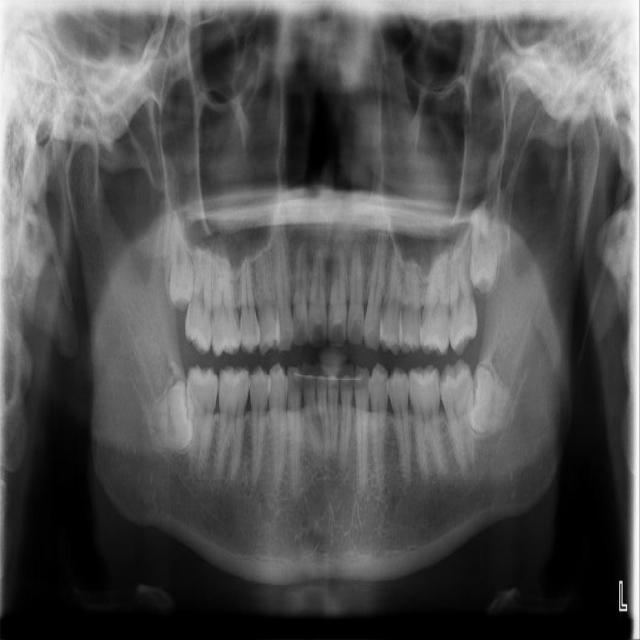3M ESPE Implant: (168, 211, 196, 312)
73: (582, 568, 590, 572)
BioHorizons Implant: (449, 235, 478, 355)
BioLife Implant: (469, 203, 497, 293)
Biomet 3i Implant: (463, 356, 518, 436)
Blue Sky Bio Implant: (437, 356, 480, 480)
Caries: (183, 247, 218, 355)
Implant: (185, 364, 222, 480)
Keystone Dental Implant: (143, 378, 201, 454)
